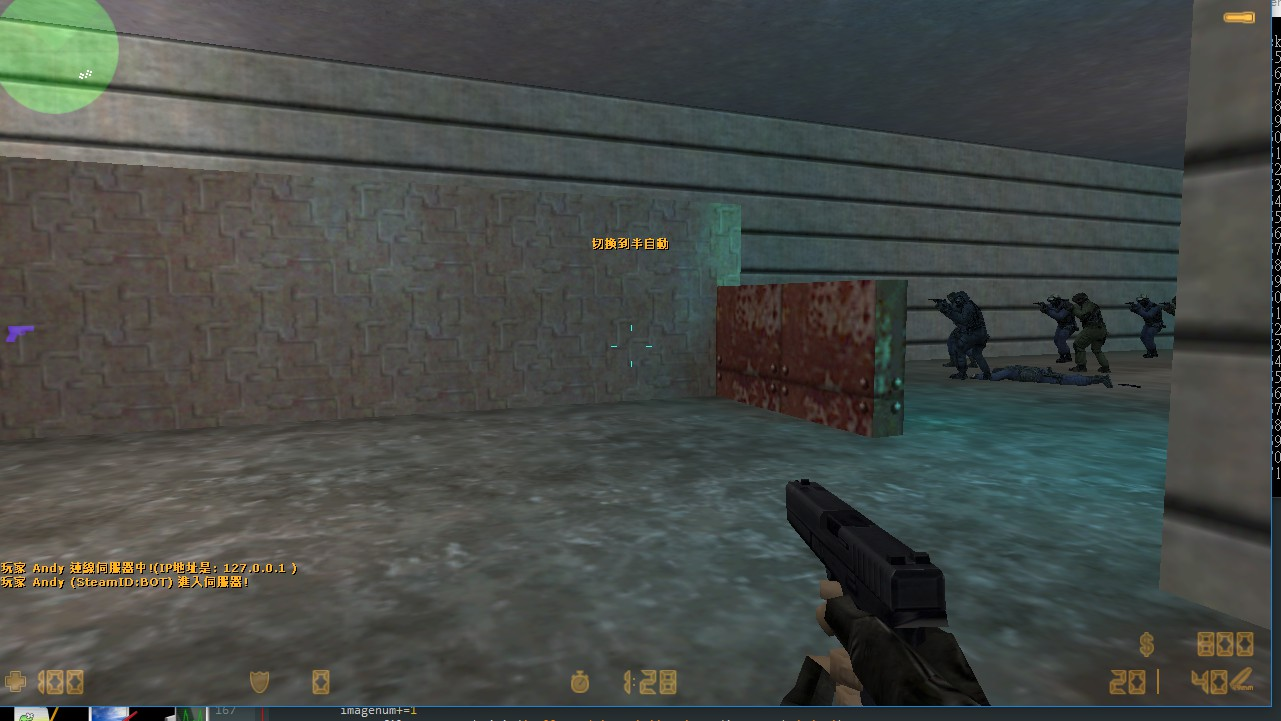person: (950, 286, 993, 378), (1072, 292, 1115, 373), (1035, 287, 1074, 364), (1125, 289, 1165, 360)
